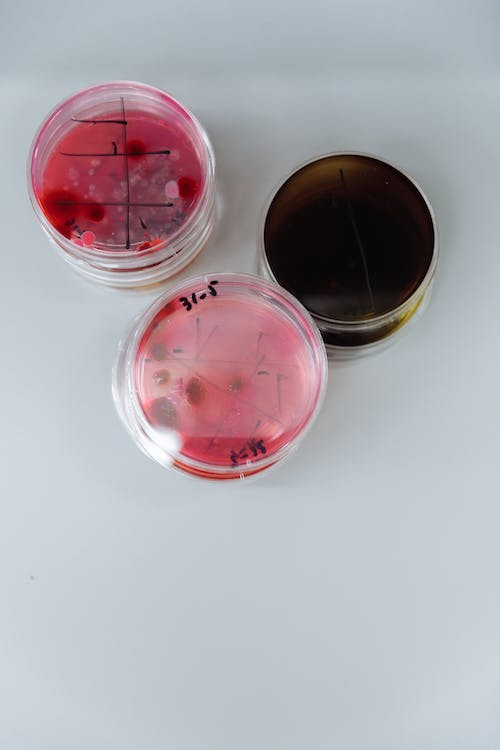blood: (125, 270, 332, 478), (25, 79, 212, 274)
